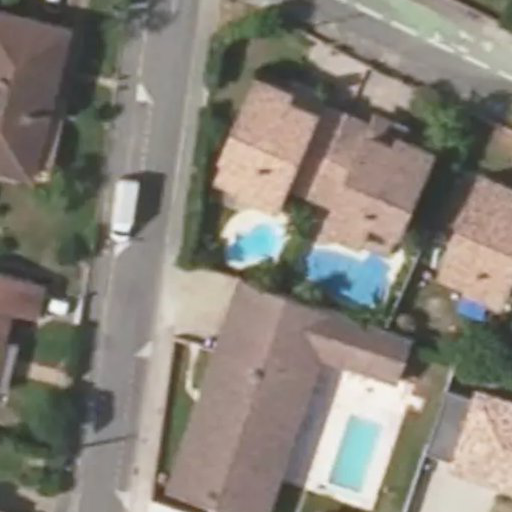pool: (224, 238, 285, 248)
